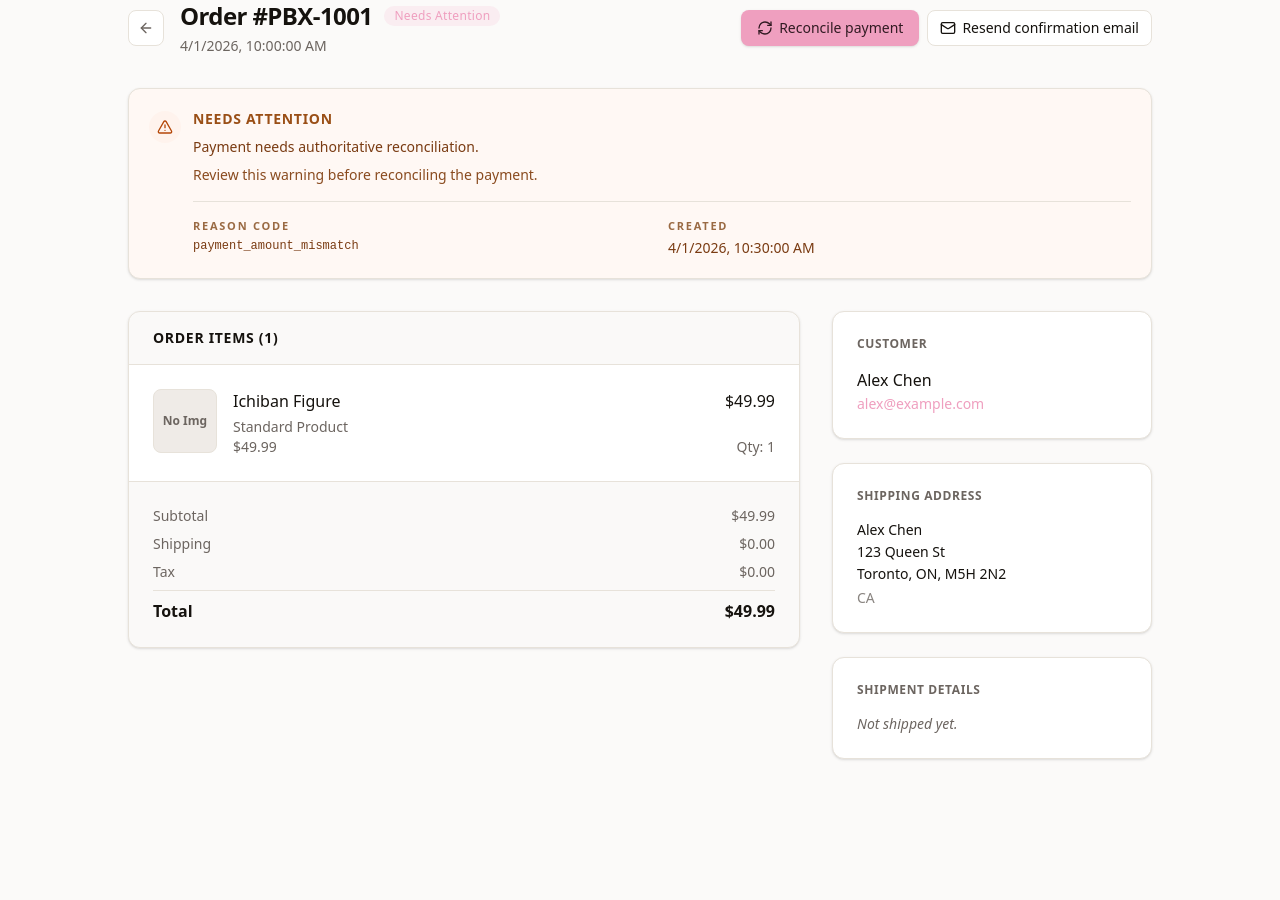
Test: AdminOrderDetailPageClient › shows backend reconciliation failures without refreshing the order
Click the button "Reconcile payment" at (830, 28), box [741,10,919,46]
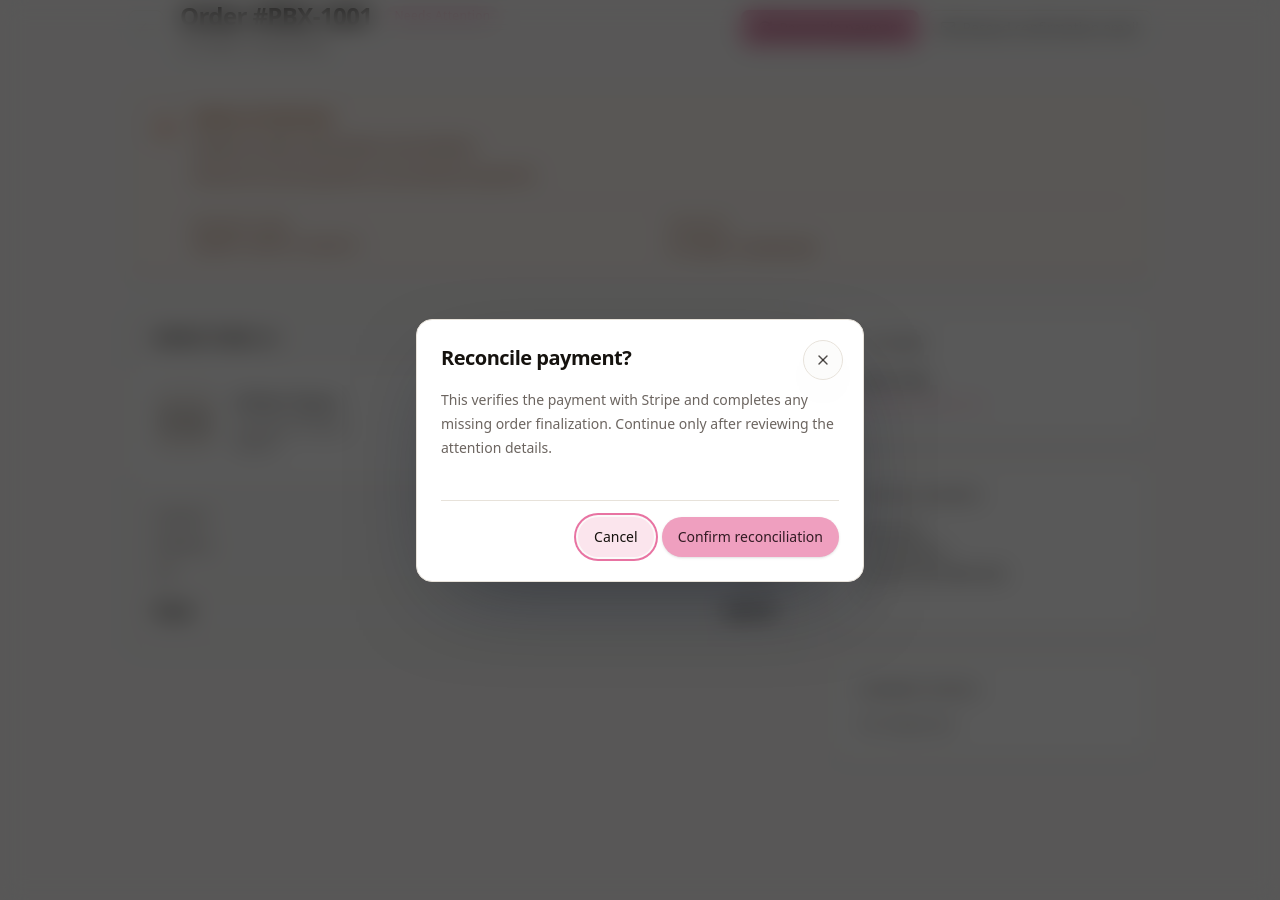
Click the button "Confirm reconciliation" at (750, 536), box [662,516,839,556]
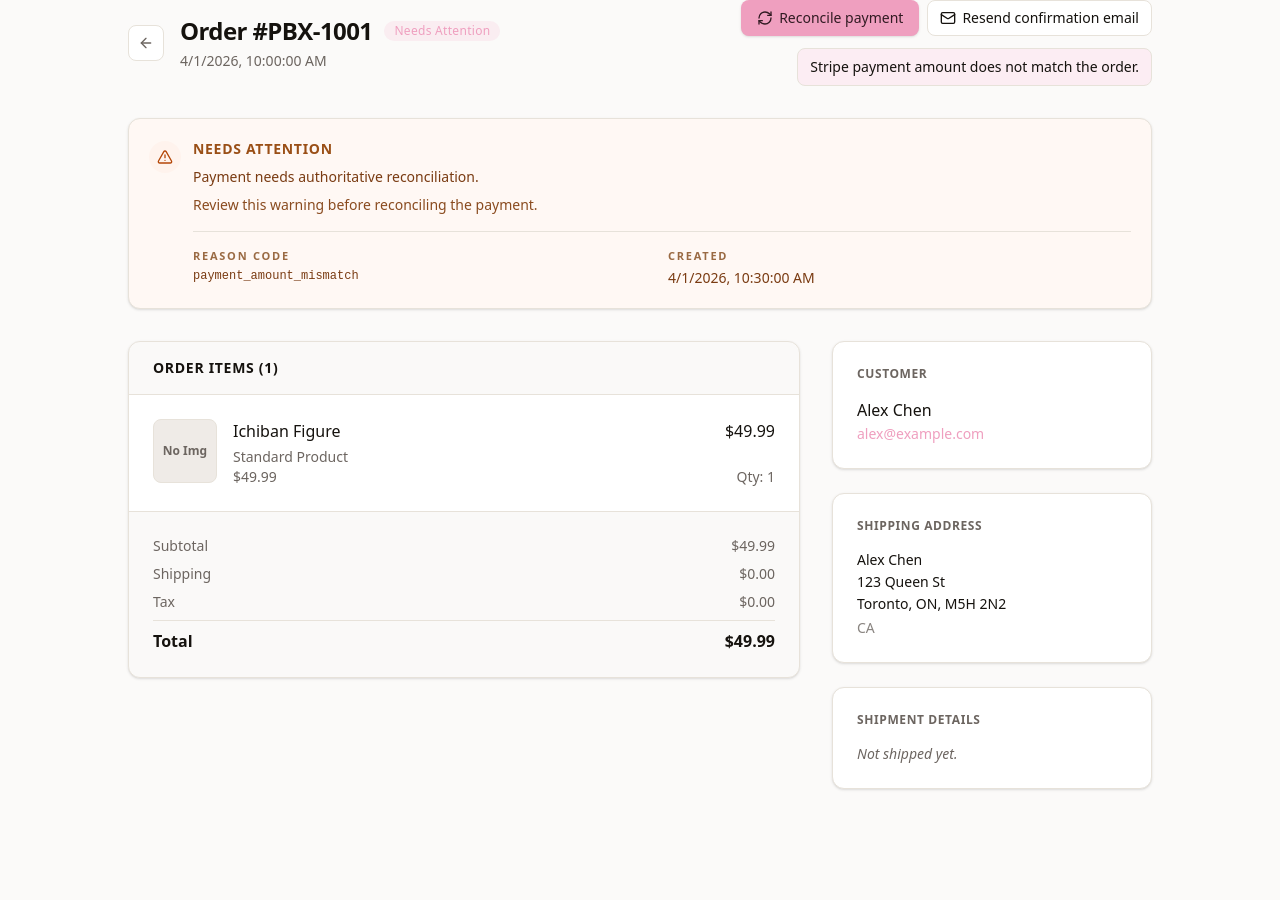
Check: the message reads "Stripe payment amount does not match the order.", box [810,57,1139,76]
